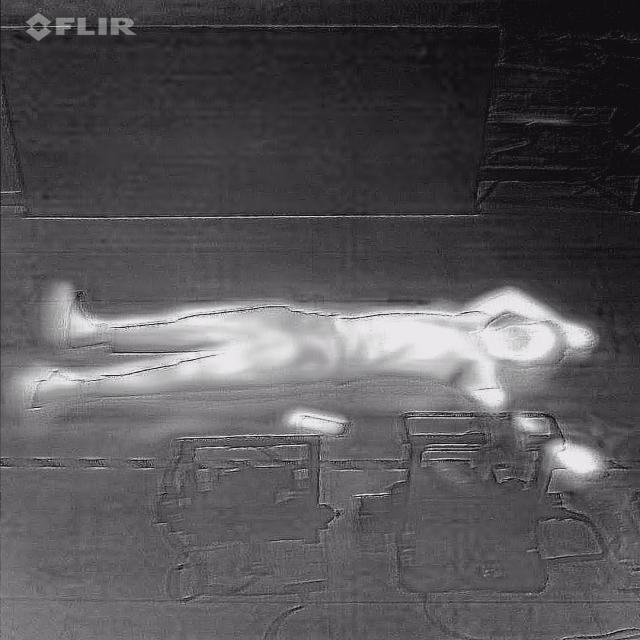Victim: (25, 284, 614, 479)
